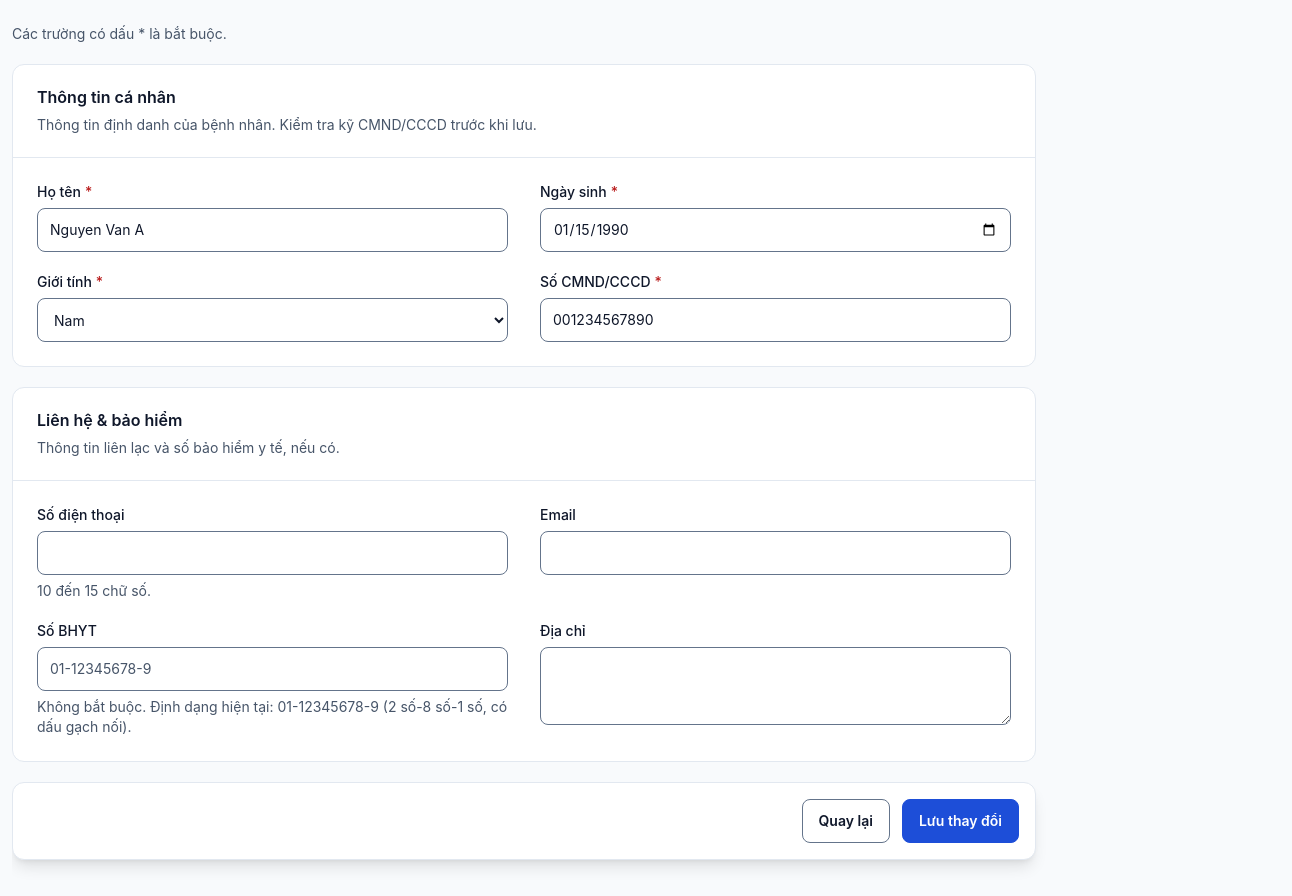
Test case: PatientForm › retries a failed reconciliation read without repeating the uncertain edit
The image size is (1292, 896).
Replace the text in the field labelled "Họ tên*" with "Changed Name" at [272, 230], box [37,208,508,252]
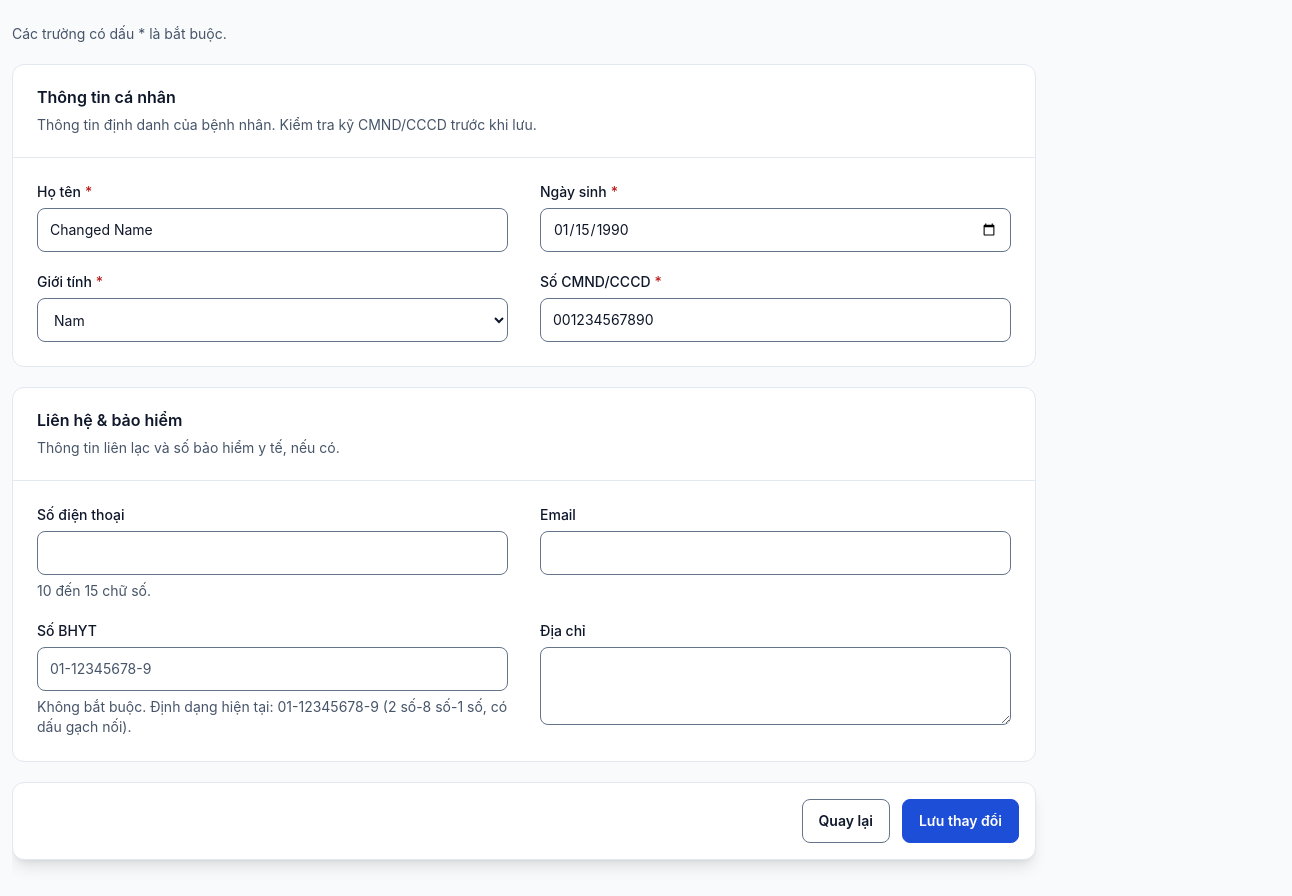
Submit the form named "Họ tên"
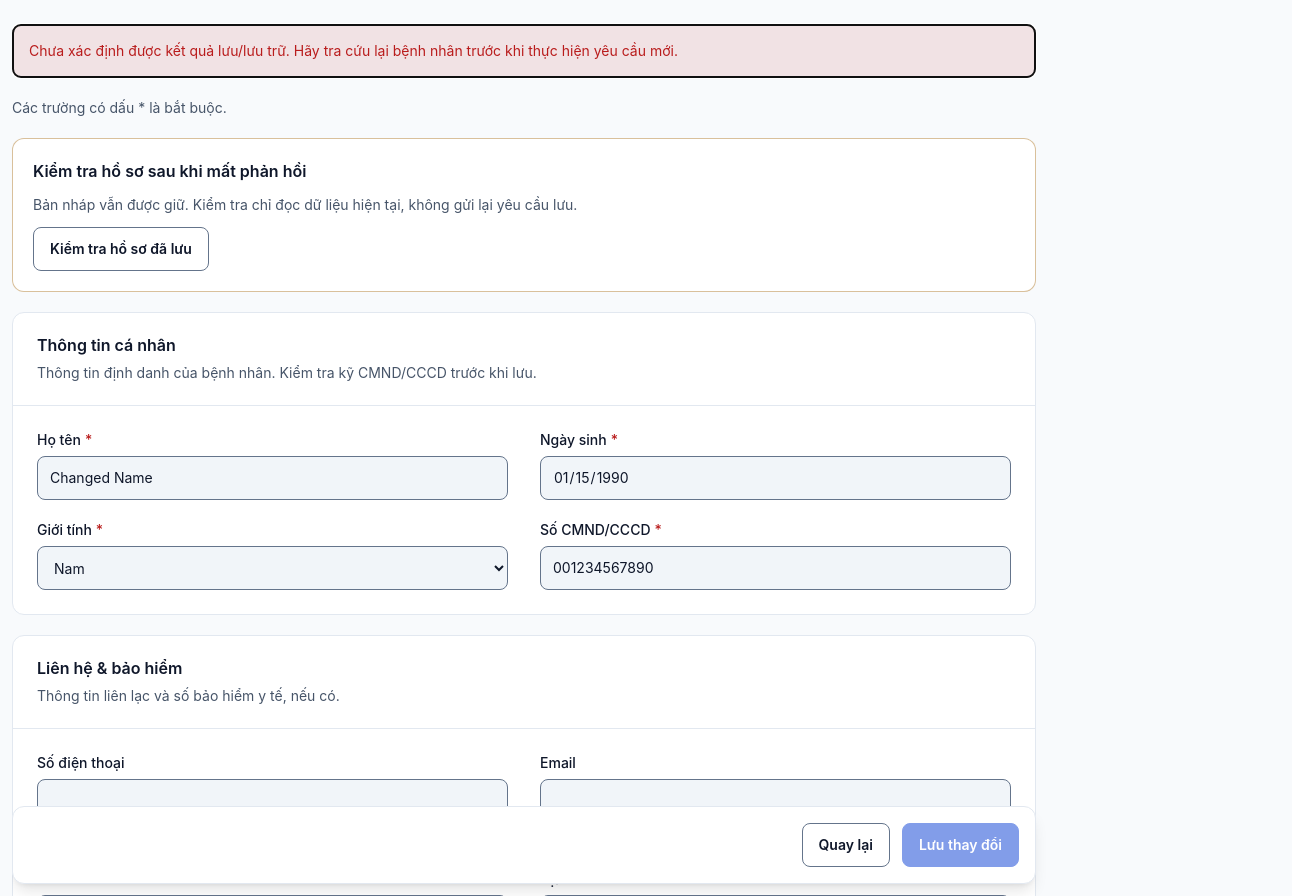
Click the button "Kiểm tra hồ sơ đã lưu" at [121, 249], box [33,227,209,271]
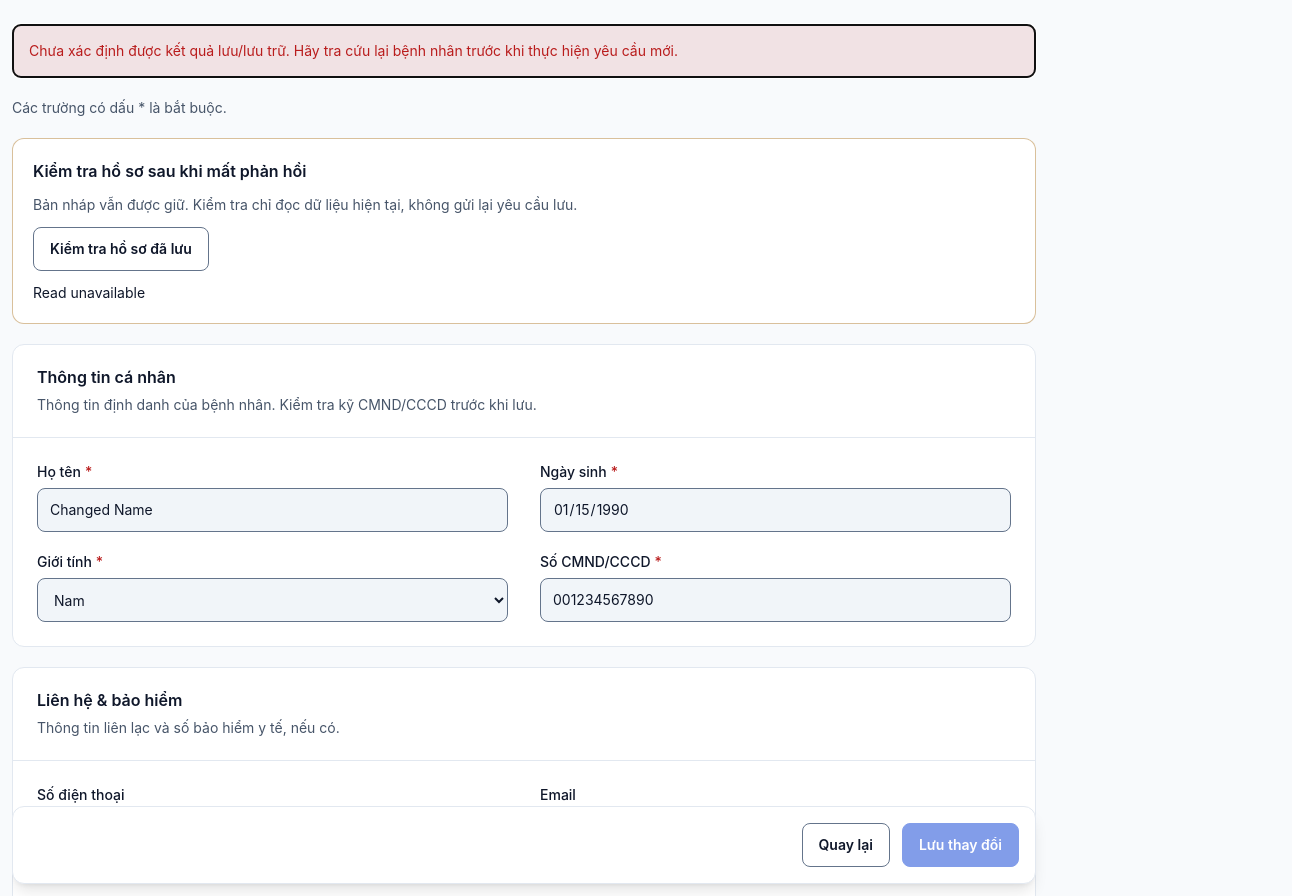
Now the button "Lưu thay đổi" is disabled, box [902,823,1019,867]
Now the text "Read unavailable" is shown, box [33,284,145,301]
Click the button "Kiểm tra hồ sơ đã lưu" at [121, 249], box [33,227,209,271]
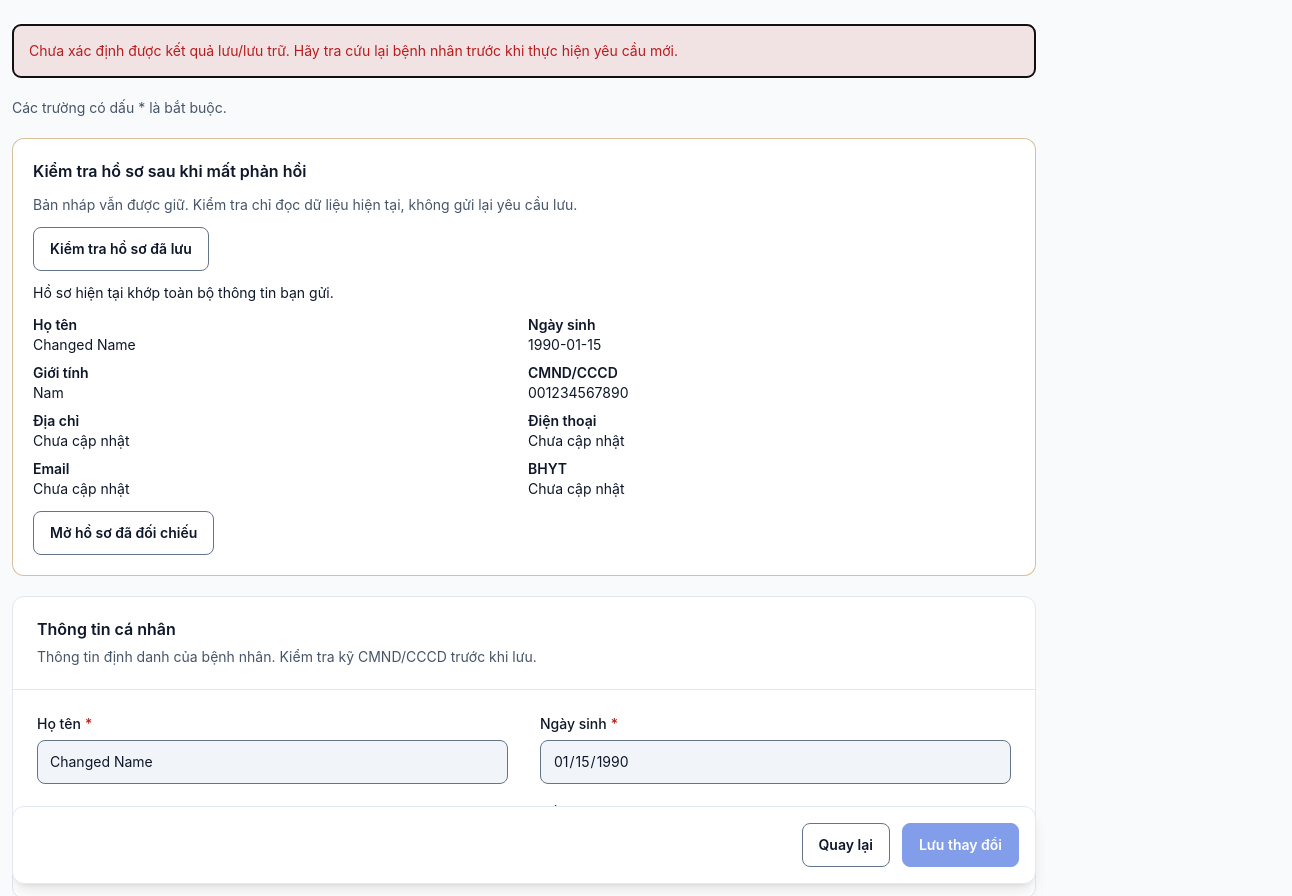
Now the text "Hồ sơ hiện tại khớp toàn bộ thông tin bạn gửi." is shown, box [33,284,334,301]
